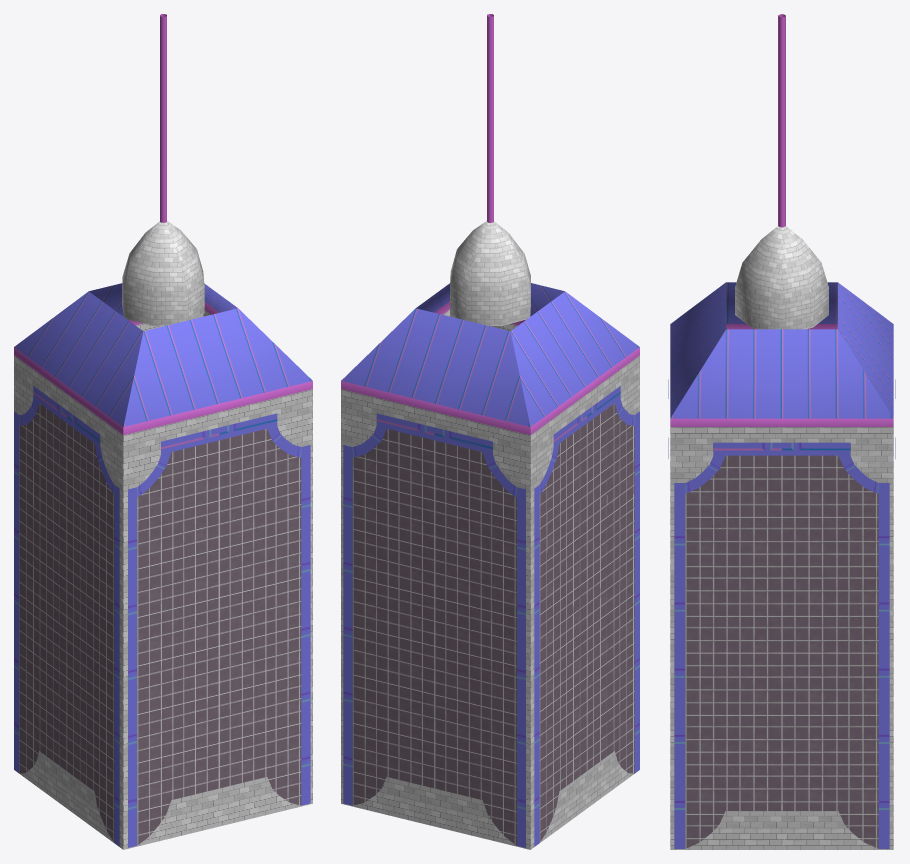
The model's file is SM_Building_01.fbx.
The picture shows the model from 3 angles, left to right: view 1: azimuth 30°, elevation 25°; view 2: azimuth 150°, elevation 25°; view 3: azimuth 270°, elevation 25°; orthographic projection. The views are drawn at different scales.
Visible parts, largest first — view 1: SM_Building_01; view 2: SM_Building_01; view 3: SM_Building_01.
Boxes of the visible parts, <box> form: SM_Building_01: <box>14,14,312,849</box>; SM_Building_01: <box>341,14,639,849</box>; SM_Building_01: <box>668,14,895,849</box>.
Size of the model in its own units: 522 by 522 by 1991.
